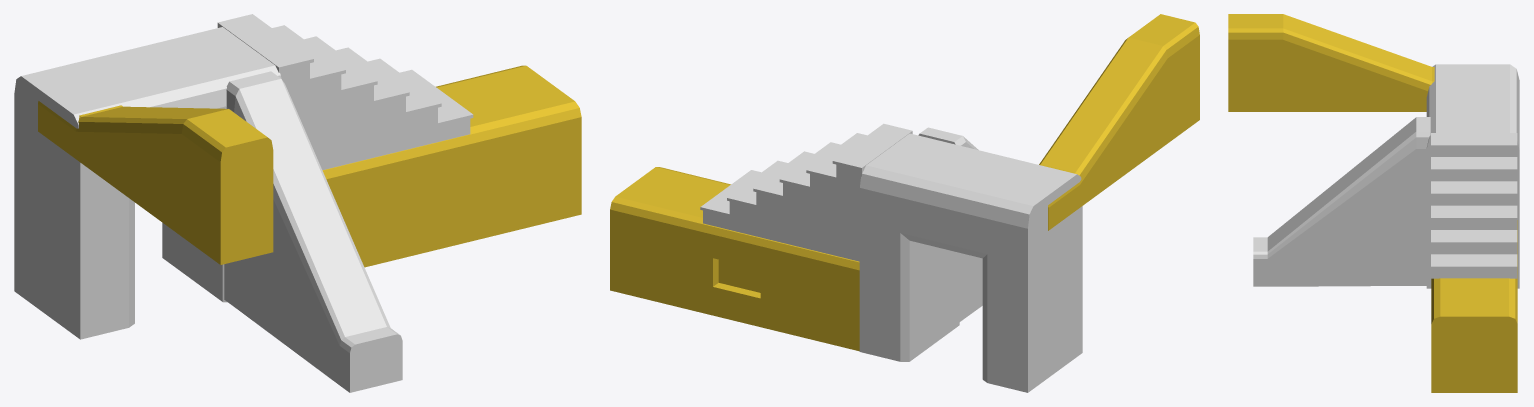
The picture shows the model from 3 angles, left to right: view 1: azimuth 30°, elevation 25°; view 2: azimuth 150°, elevation 25°; view 3: azimuth 270°, elevation 25°; orthographic projection. The views are drawn at different scales.
Parts seen in each view (by area): view 1: Hedge_Door_Cube.002, Hedge_Inset_Single_Cube.002, Hedge_Ramp_Cube.008, Hedge_Ramp_Cube.009, Stairs_Stairs.003; view 2: Hedge_Door_Cube.002, Hedge_Inset_Single_Cube.002, Hedge_Ramp_Cube.009, Stairs_Stairs.003, Hedge_Ramp_Cube.008; view 3: Hedge_Ramp_Cube.008, Hedge_Ramp_Cube.009, Stairs_Stairs.003, Hedge_Inset_Single_Cube.002, Hedge_Door_Cube.002.
Boxes of the visible parts, bbox=[...] form: Hedge_Door_Cube.002: bbox=[14, 27, 281, 339]; Hedge_Inset_Single_Cube.002: bbox=[322, 65, 581, 267]; Hedge_Ramp_Cube.008: bbox=[224, 71, 402, 392]; Hedge_Ramp_Cube.009: bbox=[38, 101, 273, 264]; Stairs_Stairs.003: bbox=[217, 14, 473, 170]; Hedge_Door_Cube.002: bbox=[859, 133, 1082, 392]; Hedge_Inset_Single_Cube.002: bbox=[610, 167, 859, 351]; Hedge_Ramp_Cube.009: bbox=[1039, 14, 1199, 230]; Stairs_Stairs.003: bbox=[700, 123, 912, 261]; Hedge_Ramp_Cube.008: bbox=[918, 127, 982, 321]; Hedge_Ramp_Cube.008: bbox=[1253, 117, 1430, 286]; Hedge_Ramp_Cube.009: bbox=[1228, 14, 1434, 111]; Stairs_Stairs.003: bbox=[1431, 133, 1517, 278]; Hedge_Inset_Single_Cube.002: bbox=[1431, 220, 1517, 392]; Hedge_Door_Cube.002: bbox=[1426, 64, 1519, 288].
Bounding box in the file's own units: 7800 × 4344 × 5528.
